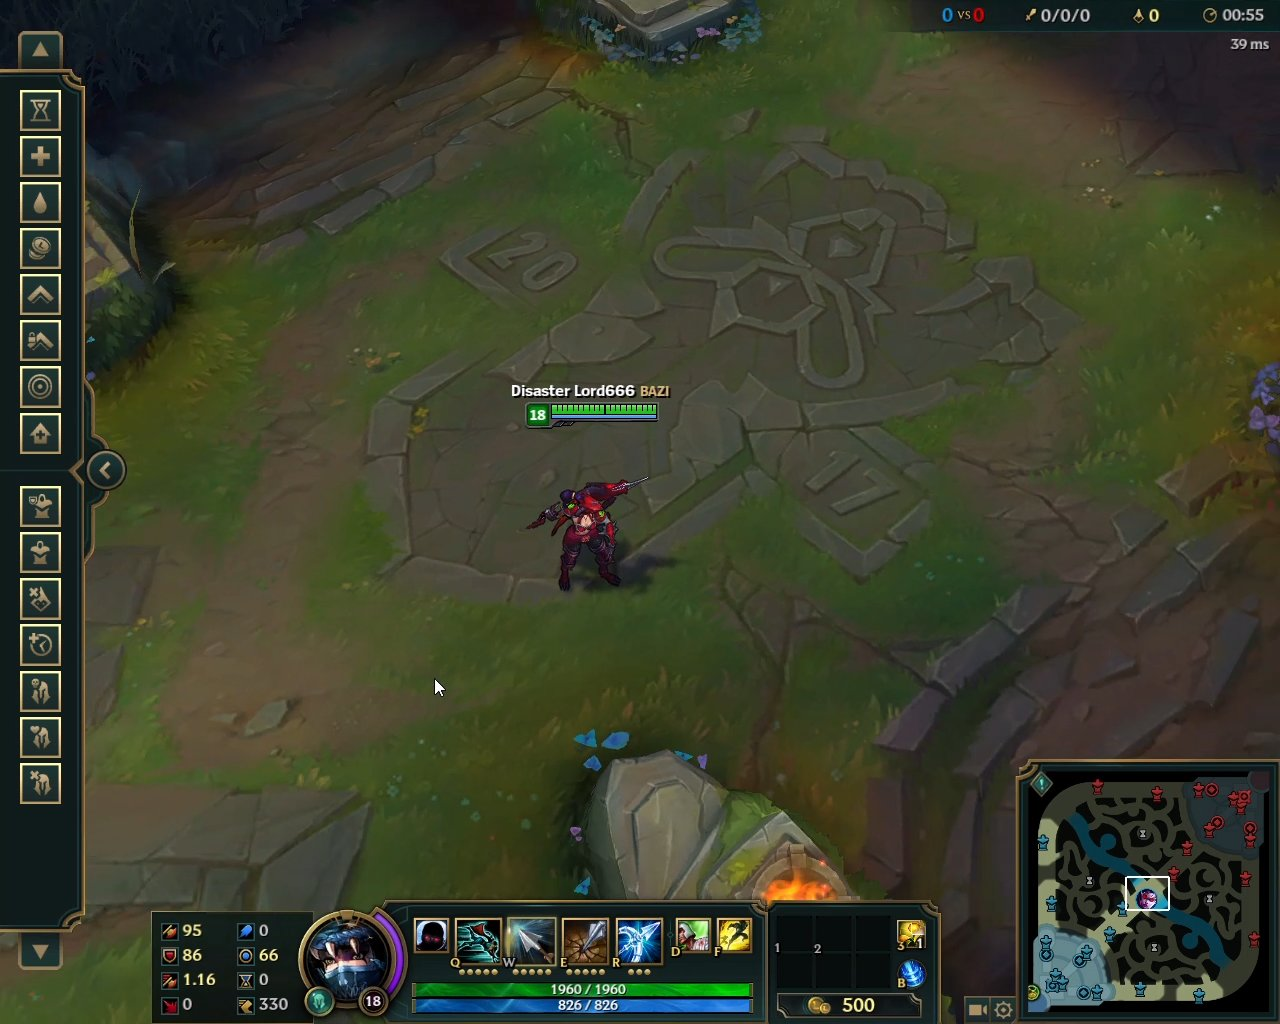Vayne: (518, 470, 656, 600)
